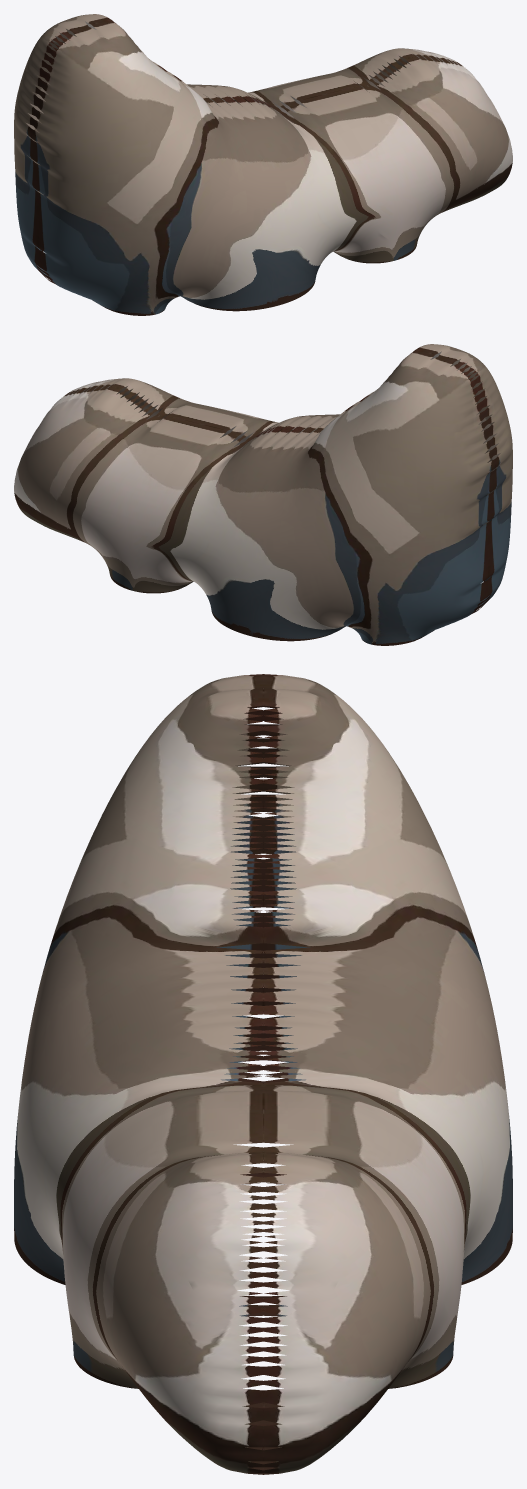
File: corner_boulders.glb
3 views of the same model, one above another, from view 1: azimuth 30°, elevation 25°; view 2: azimuth 150°, elevation 25°; view 3: azimuth 270°, elevation 25° (orthographic). The views are drawn at different scales.
Visible parts, largest first — view 1: corner_boulders; view 2: corner_boulders; view 3: corner_boulders.
Part boxes in pixels (left/top/right/bottom): corner_boulders: left=14, top=14, right=512, bottom=315; corner_boulders: left=14, top=344, right=512, bottom=645; corner_boulders: left=14, top=674, right=512, bottom=1474.
Size of the model in its own units: 0.989 by 0.5171 by 0.5156.
1 material, 1 textured.
